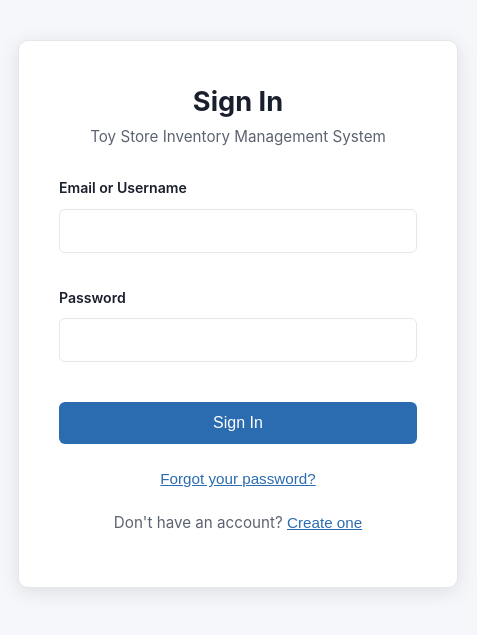
Test case: Login Page › shows error when password is empty on login
Type "admin" into the field labelled "Email or Username" at (238, 231), box [59,209,417,253]
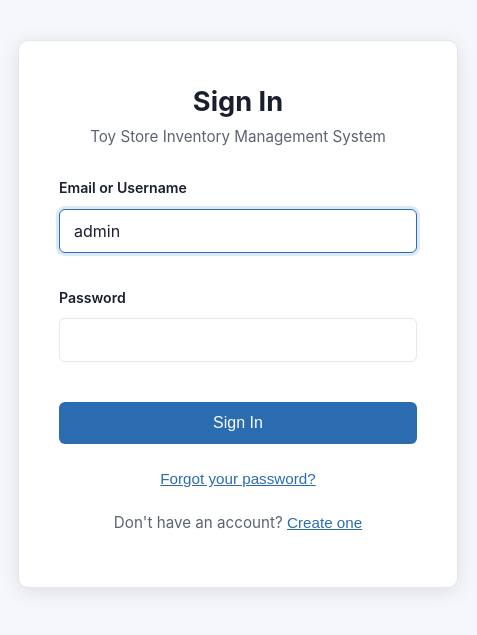
Click the button "Sign In" at (238, 423), box [59,402,417,444]
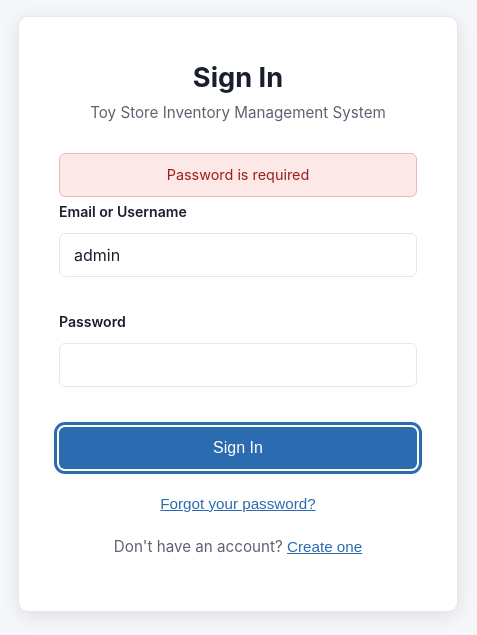
Now the message reads "Password is required", box [167,166,309,183]
